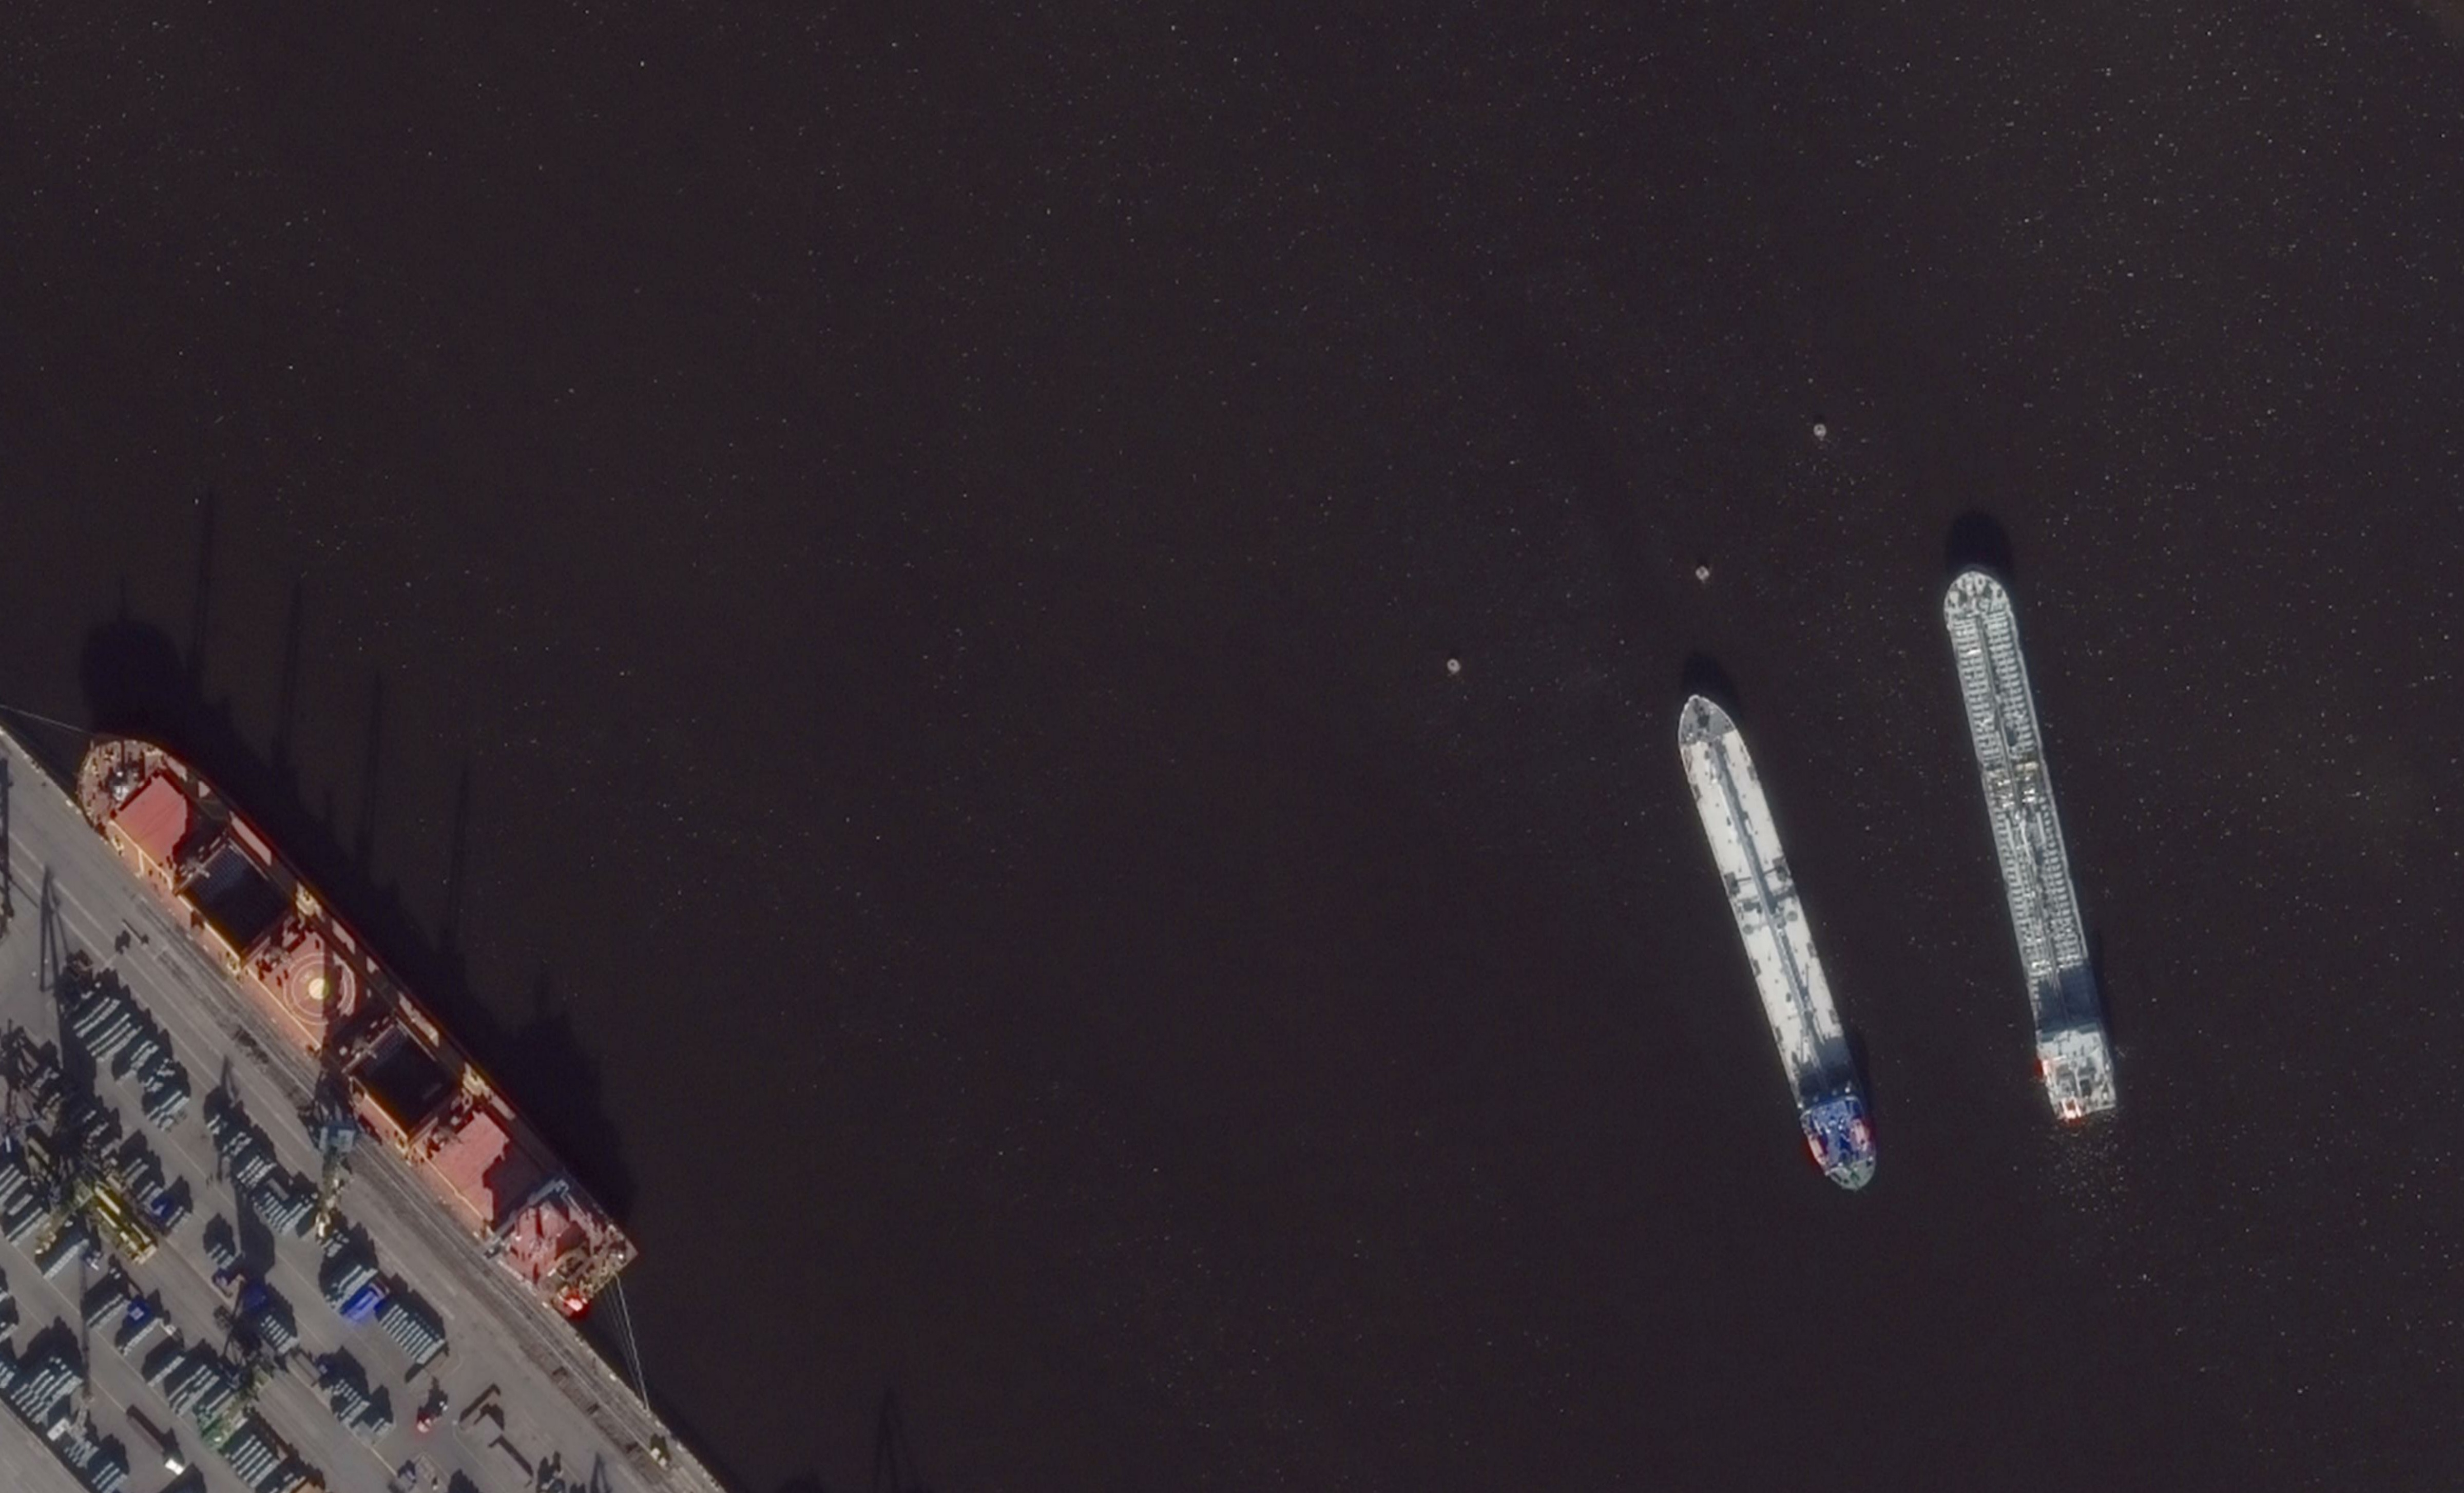boat: (67, 734, 641, 1322), (1668, 690, 1881, 1195), (1936, 565, 2121, 1123)
